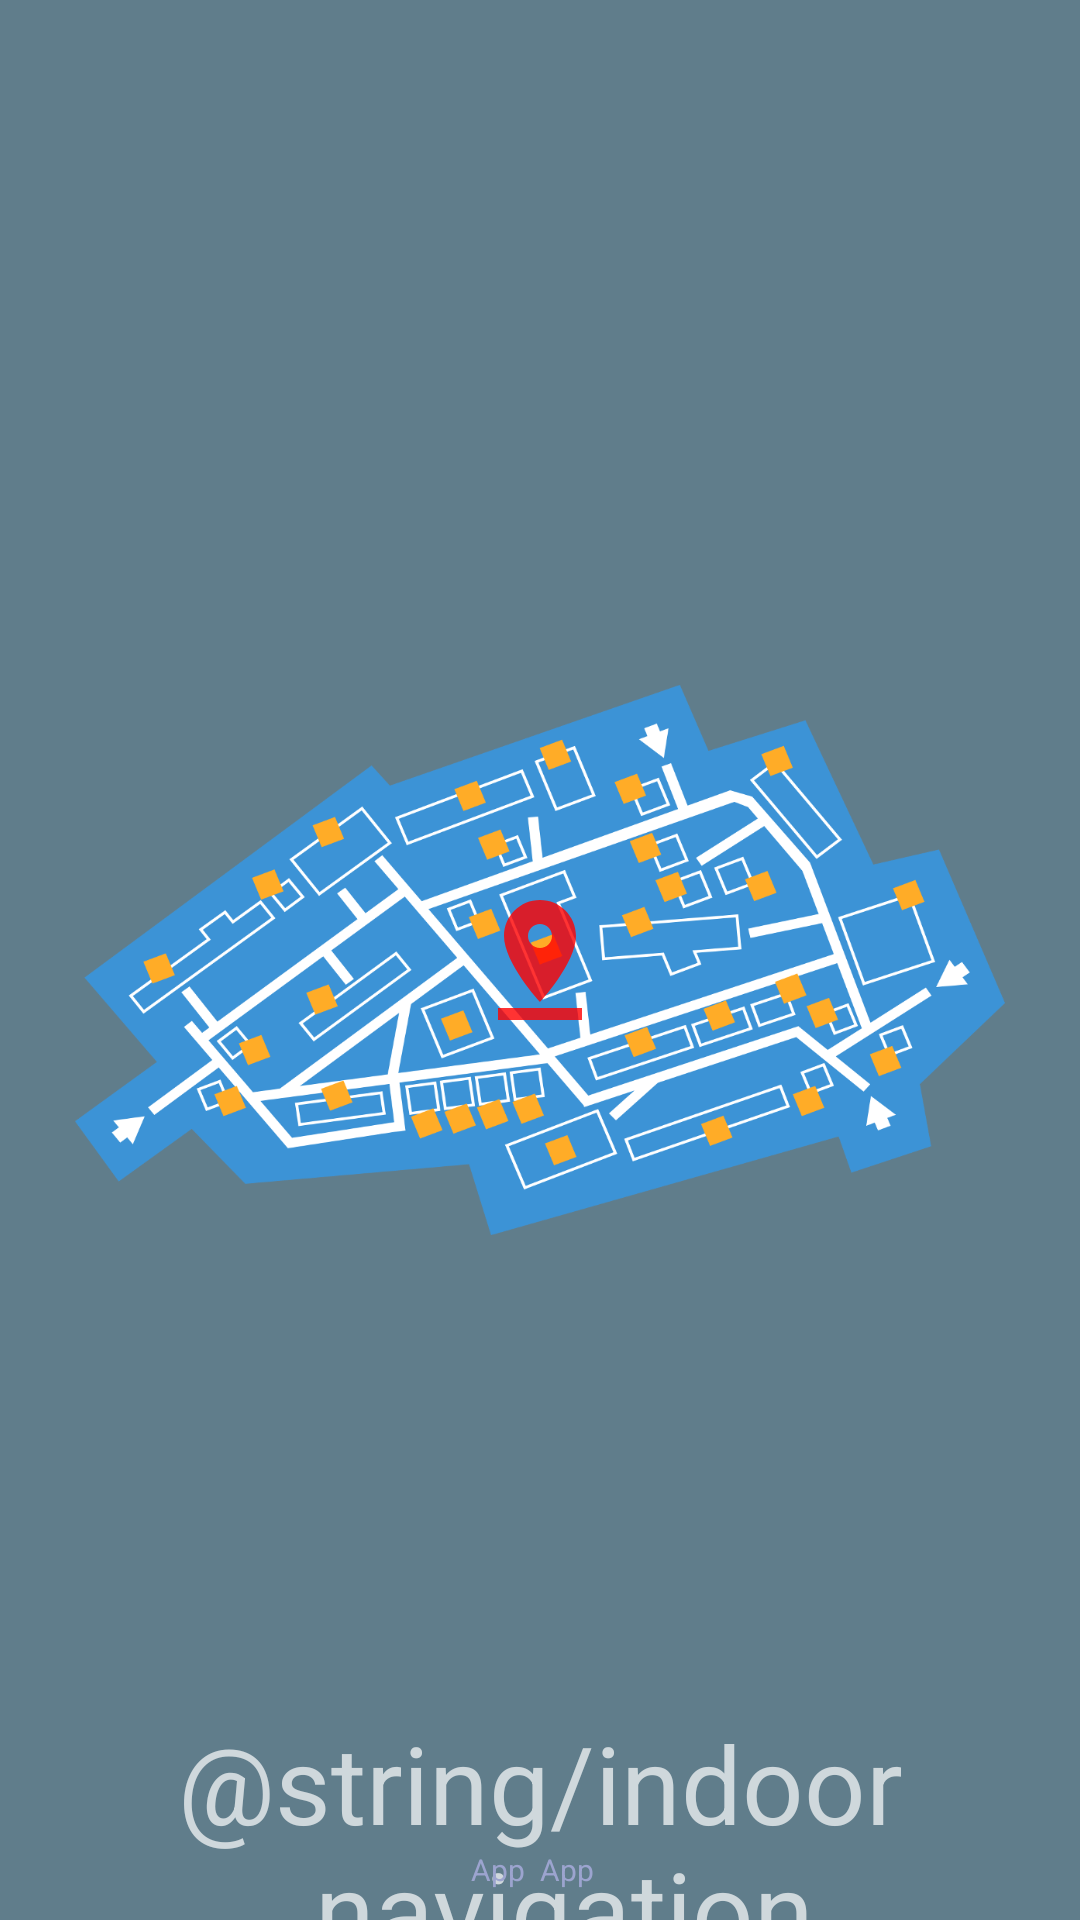

Named icons in this screenshot (1080px×1920px) and their bounding boxes, (x1, y1, x2, y2):
pin drop: (393, 813, 687, 1107)
